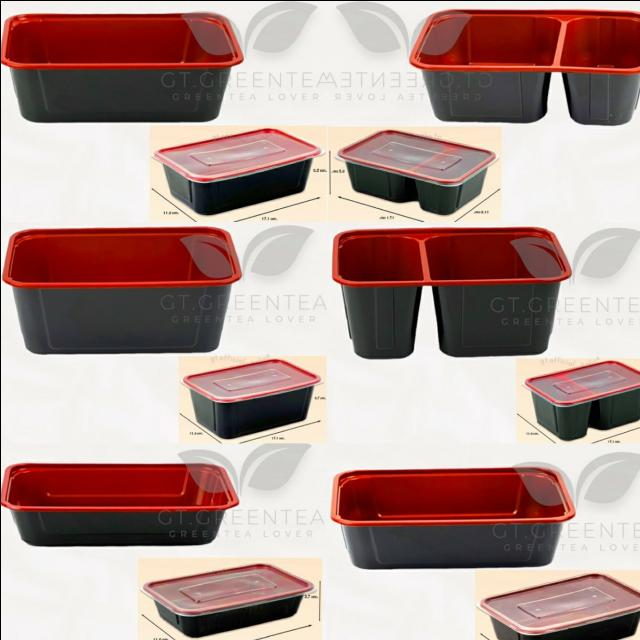plastik: (331, 227, 570, 358), (2, 225, 240, 352), (0, 11, 242, 121), (409, 9, 640, 123), (330, 467, 574, 568), (0, 463, 238, 544), (152, 128, 322, 213), (335, 129, 496, 214), (140, 563, 314, 636), (181, 358, 321, 438), (476, 573, 640, 640), (522, 359, 640, 439)
